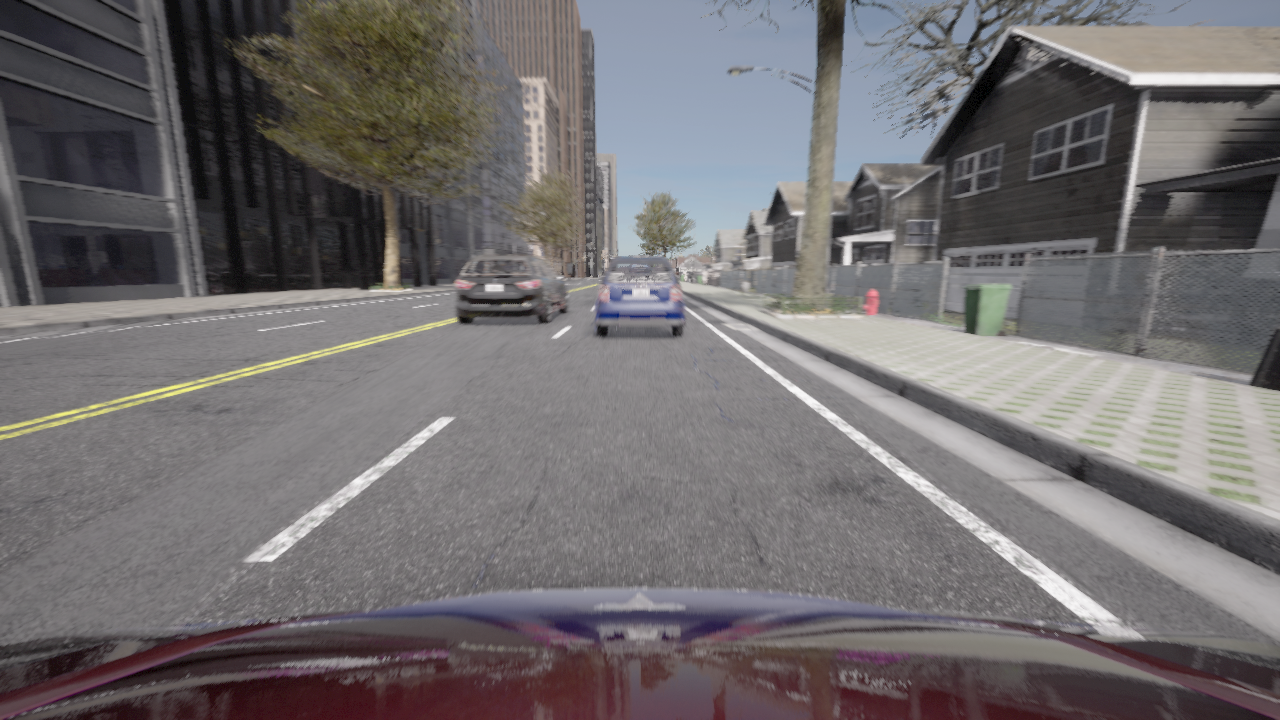cyclist: (0, 588, 1279, 719), (456, 254, 568, 323), (595, 256, 684, 336)
